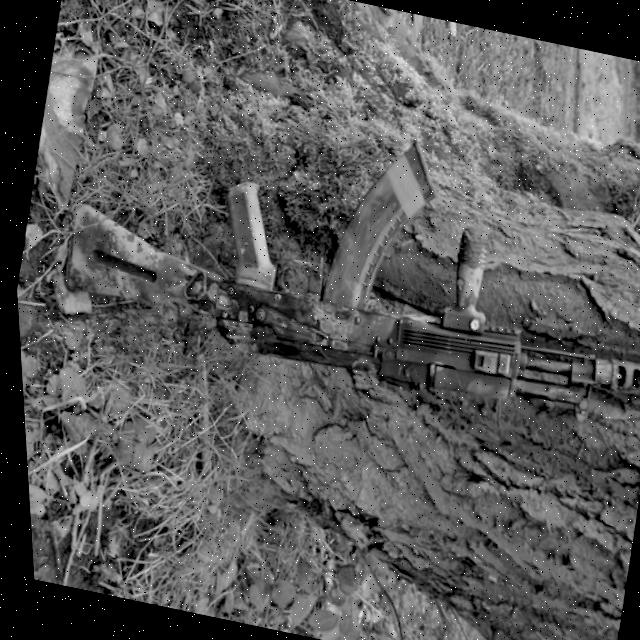firearm: (41, 78, 640, 439)
